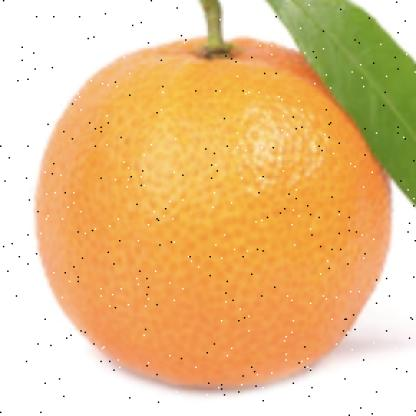fresh: (33, 31, 393, 391)
